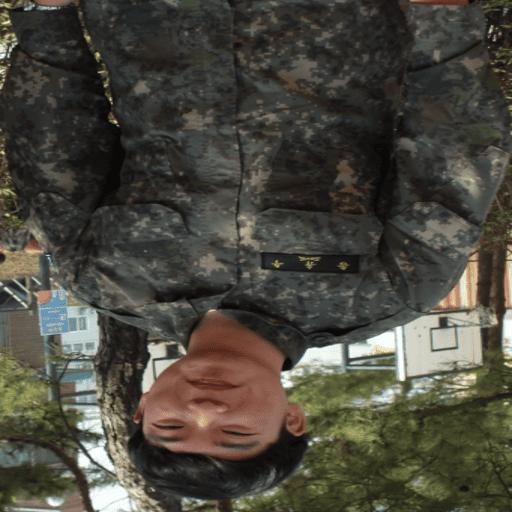korea army: (0, 1, 504, 501)
